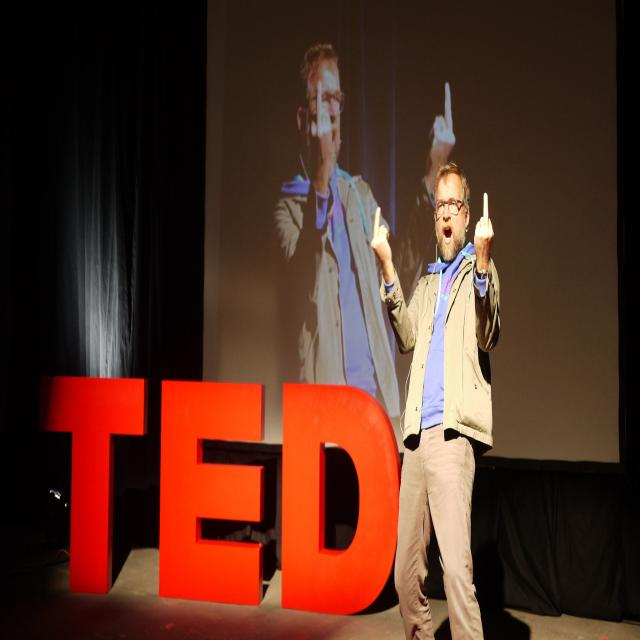stand: (396, 165, 488, 640)
